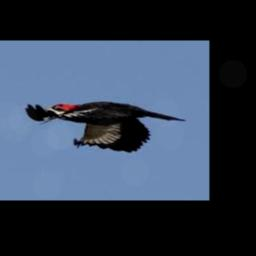Woodpecker: (26, 101, 186, 152)
